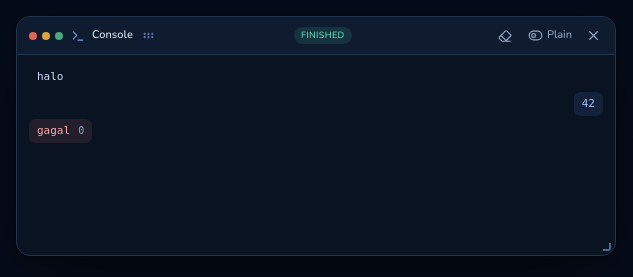
Test: plain mode renders every line in a pre
This screenshot has width=633, height=277.
Click the button "Plain" at coordinates (550, 36), box [521,22,579,48]
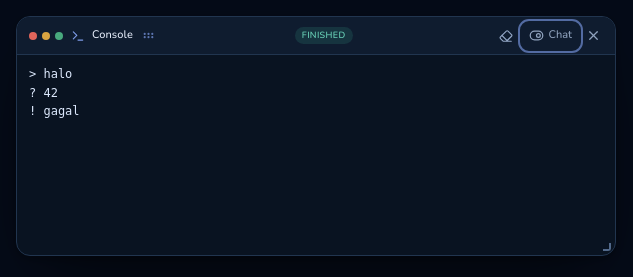
Expected: the text with test id "console-plain" shows "halo", [29,67,80,118]
Expected: the text with test id "console-plain" shows "42", [29,67,80,118]
Expected: the text with test id "console-plain" shows "gagal", [29,67,80,118]
